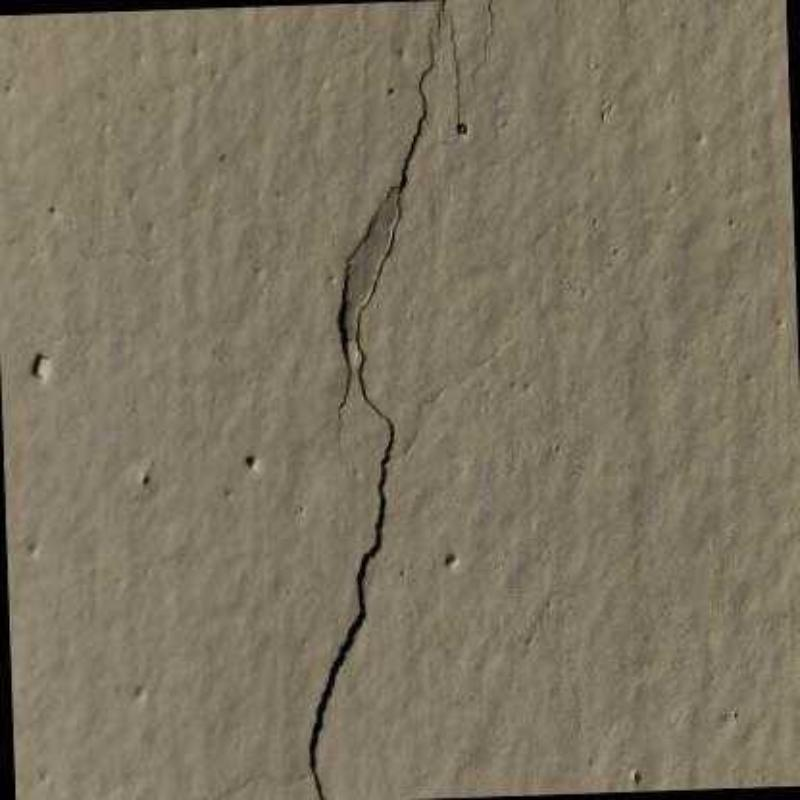crack: (309, 24, 436, 800), (336, 182, 398, 456), (471, 0, 495, 101), (449, 15, 460, 149), (437, 0, 444, 27)
